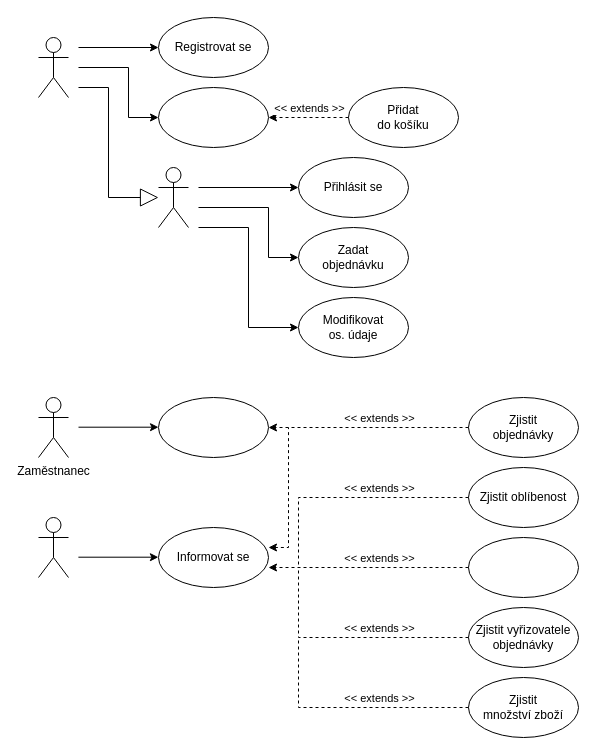
This 596x755 diagram has some shape labels left out. Here are the shapes that lost their labels. From the top down, the centre of each, then its label:
At [53,67]: "Zákazník".
At [213,117]: "Prohlížet zboží".
At [173,197]: "Registrovaný zákazník".
At [213,427]: "Vyřídit objednávku".
At [53,547]: "Vedení".
At [523,567]: "Zjistit tržby".
